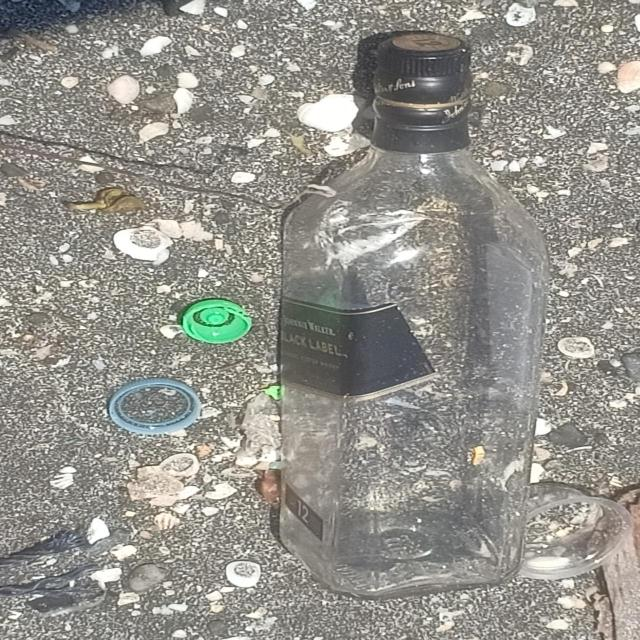glass_waste: (279, 32, 544, 600)
plastic_waste: (107, 380, 205, 438), (181, 299, 253, 346)
